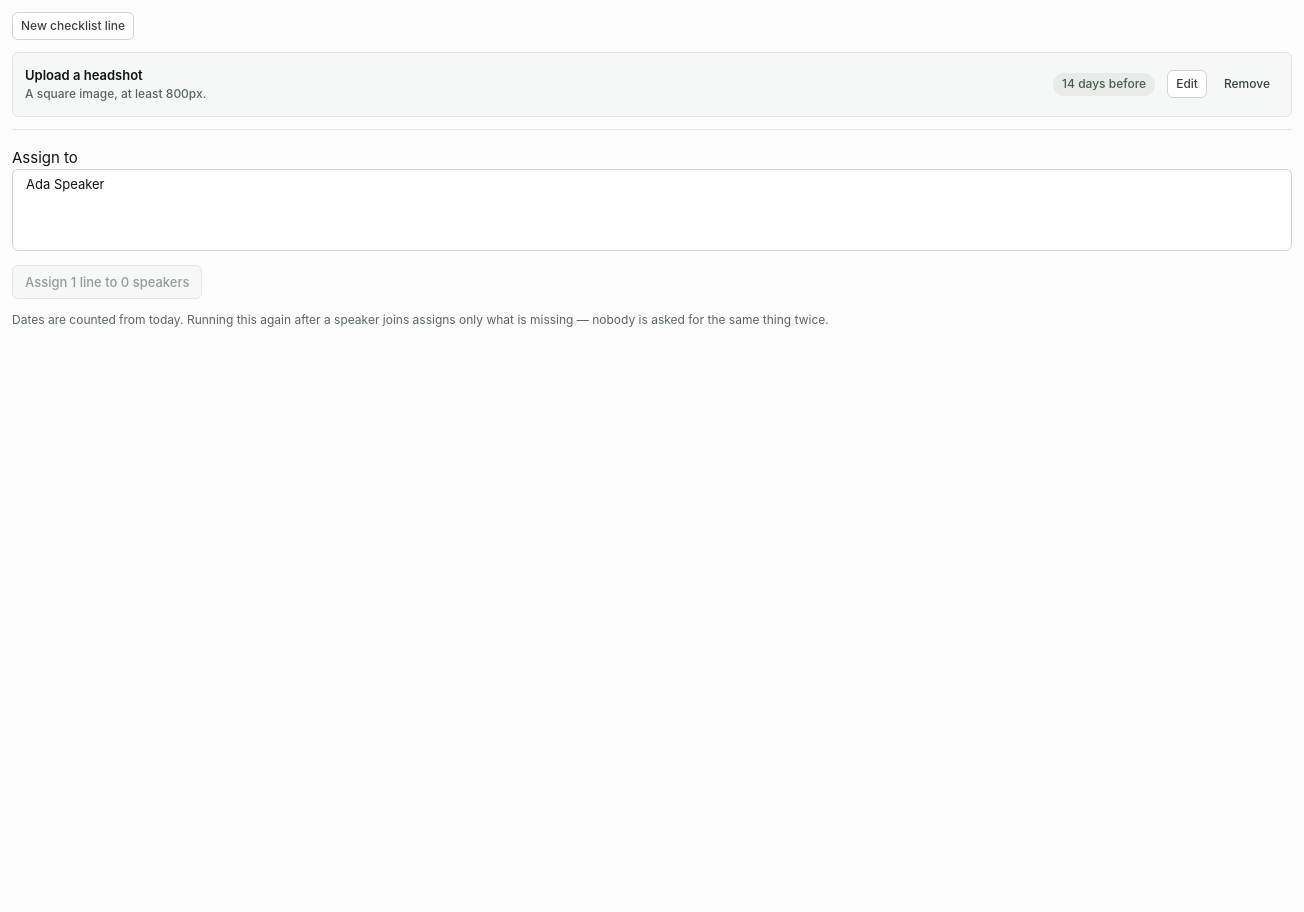
Test: speaker checklist authoring › renames a line through the route that can, and says so where it is typed
Click the button named "Edit Upload a headshot" at (1187, 84), box [1167, 70, 1207, 98]
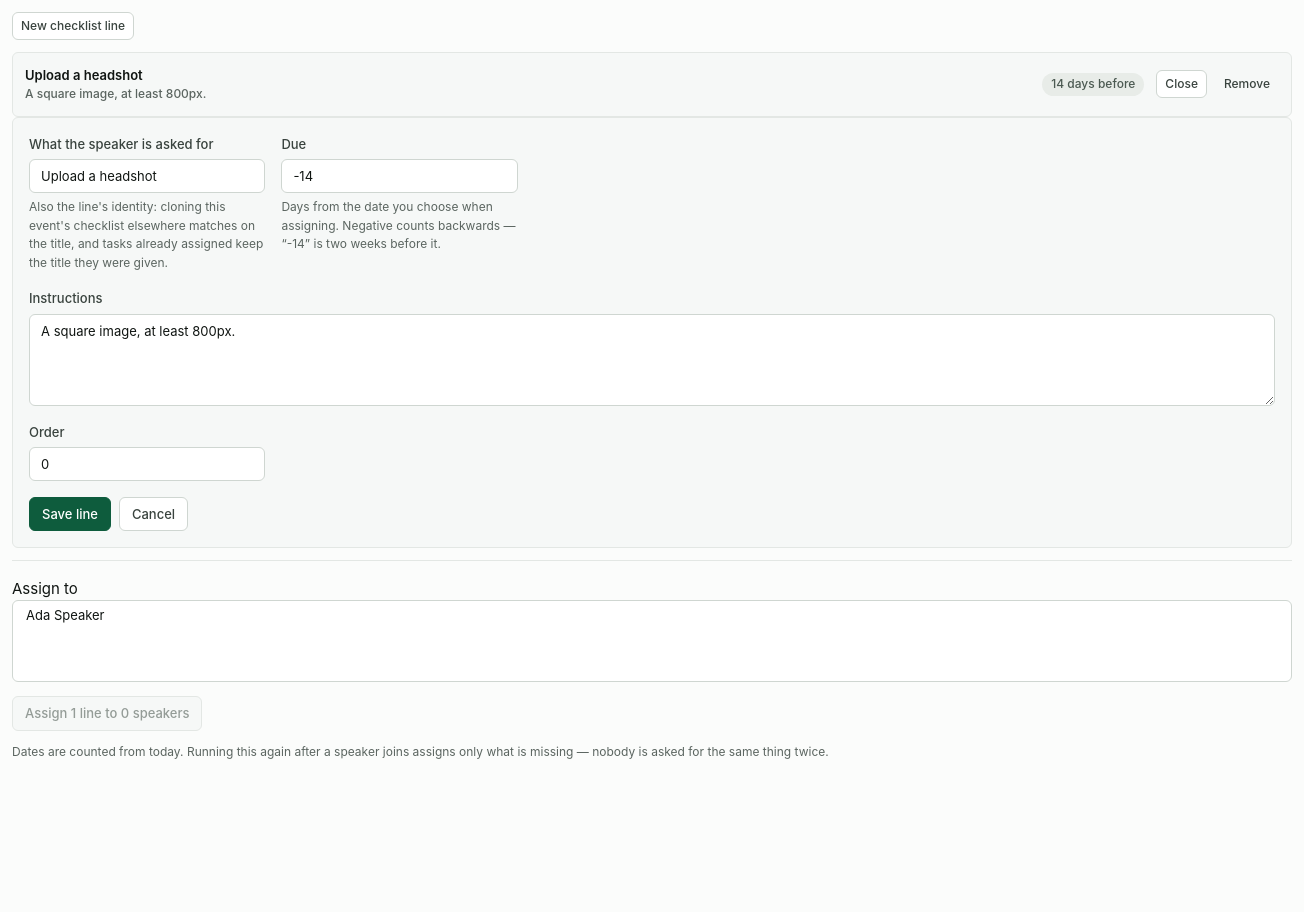
Expected: the text "cloning this event's checklist elsewhere matches on the title" is shown, [29, 199, 263, 270]
Replace the text in the field labelled "What the speaker is asked for" with "Upload a portrait" at (147, 176), box [29, 159, 265, 193]
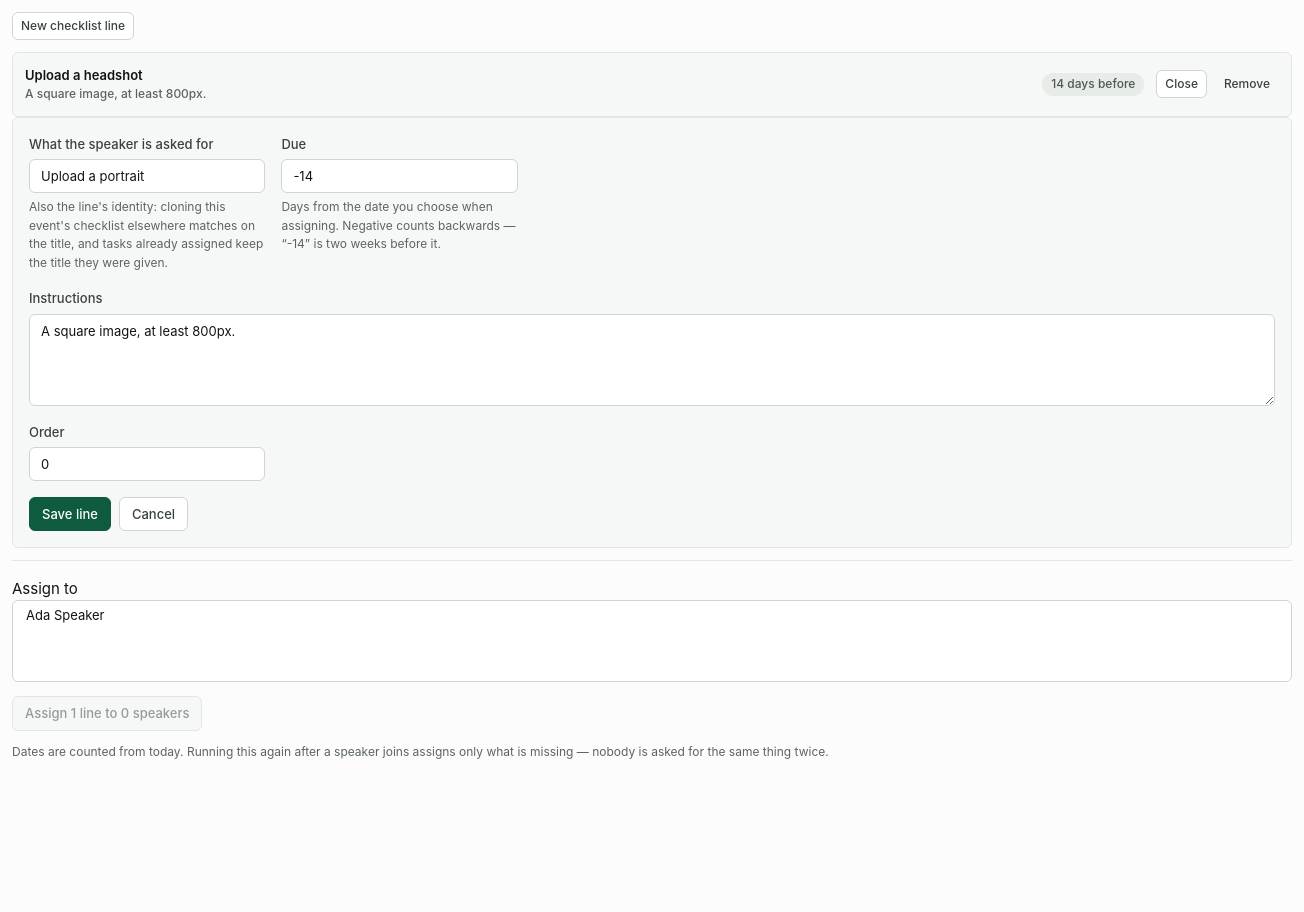
Click the button "Save line" at (70, 514), box [29, 497, 111, 531]
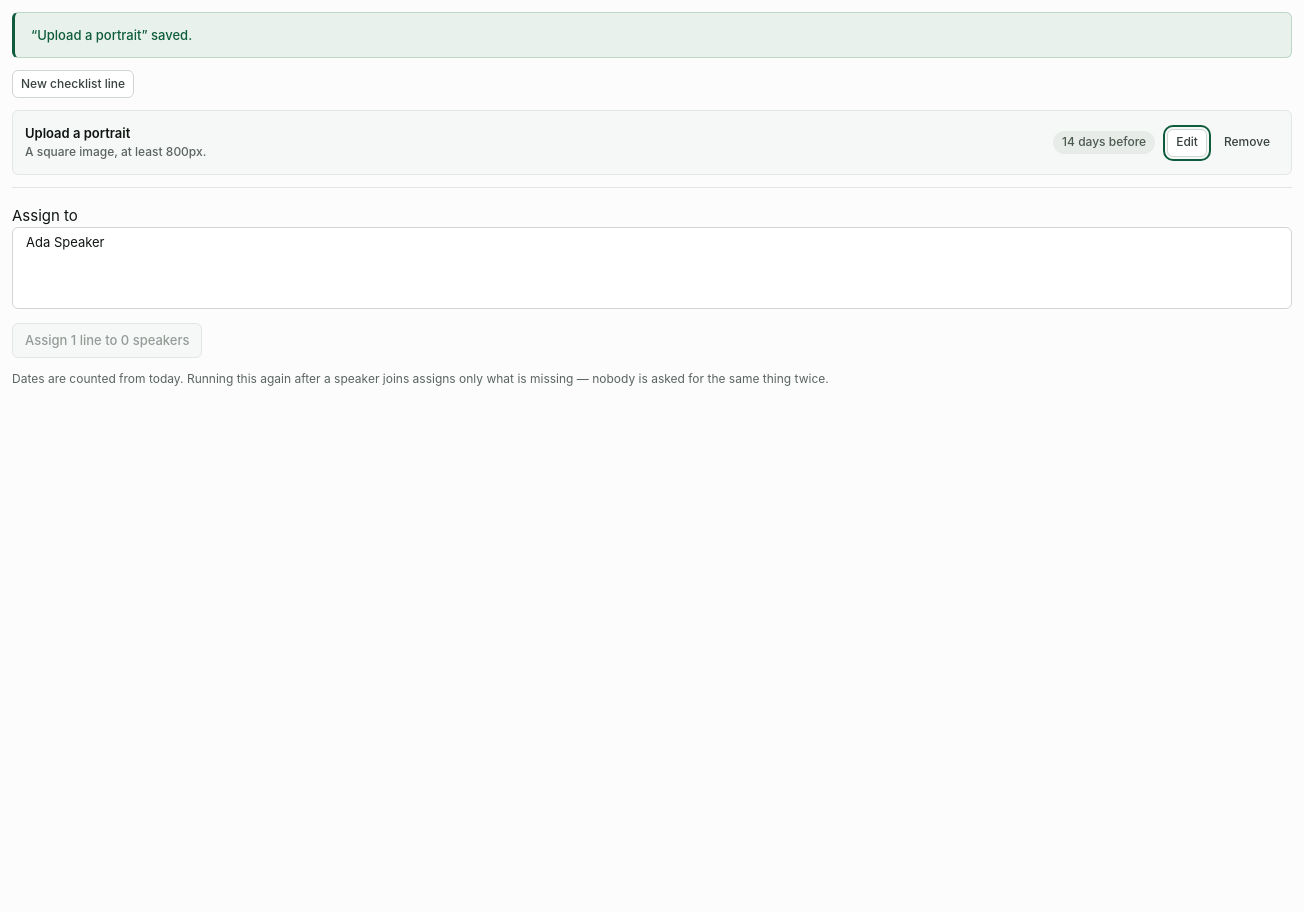
Expected: the list item shows "Upload a portrait", [25, 125, 130, 141]
